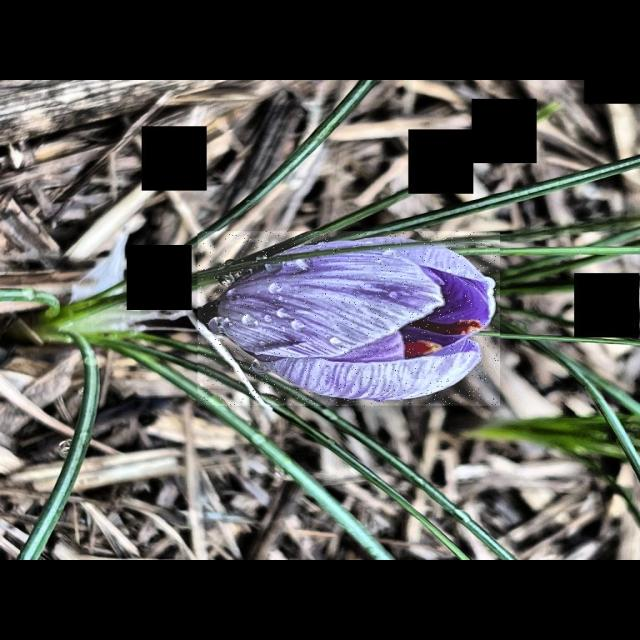Flower: (197, 232, 499, 407)
